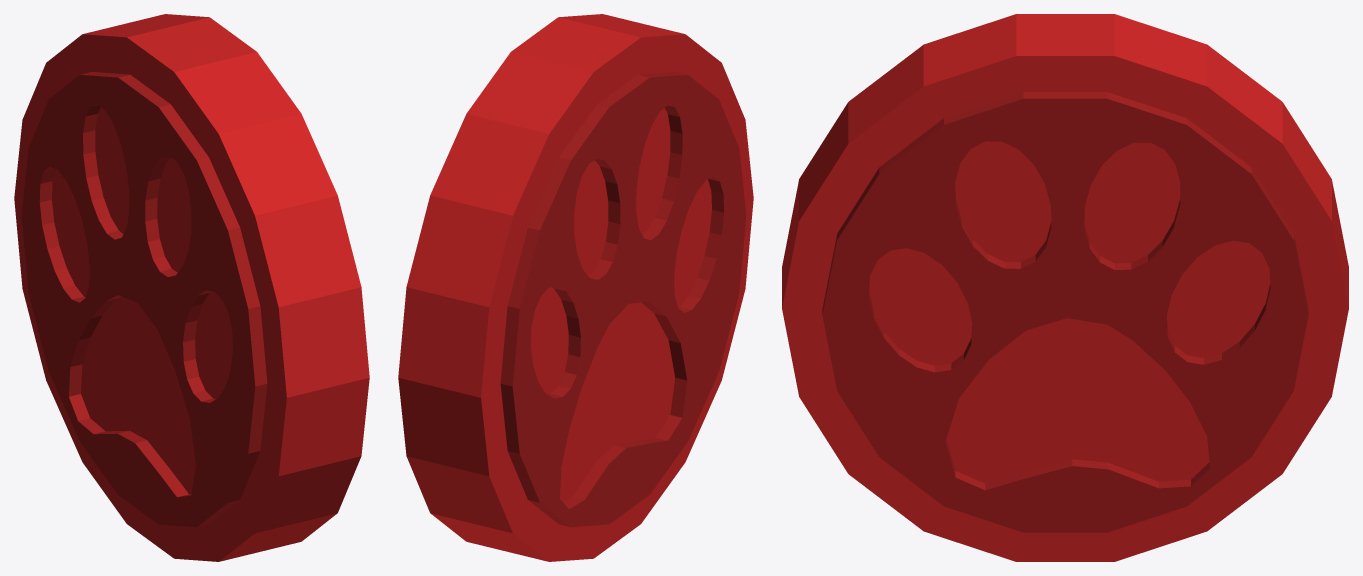
Rendered from chip.glb.
3 views of the same model, side by side, from view 1: azimuth 30°, elevation 25°; view 2: azimuth 150°, elevation 25°; view 3: azimuth 270°, elevation 25° (orthographic). The views are drawn at different scales.
Visible parts, largest first — view 1: chip; view 2: chip; view 3: chip.
Part boxes in pixels (left/top/right/bottom): chip: left=14, top=14, right=369, bottom=561; chip: left=398, top=14, right=753, bottom=561; chip: left=782, top=14, right=1348, bottom=561.
Bounding box in the file's own units: 0.4584 × 1.97 × 2.
